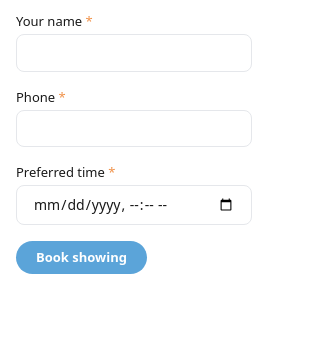
Test case: client validation › enforces the datetime business-hours window from node props
Type "Ana" into the field labelled "Your name *" at coordinates (134, 53), box [16,34,252,72]
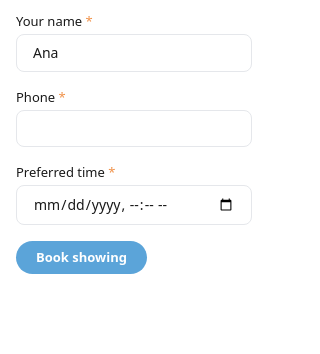
Type "+55 11 91234-5678" into the field labelled "Phone *" at coordinates (134, 128), box [16,110,252,147]
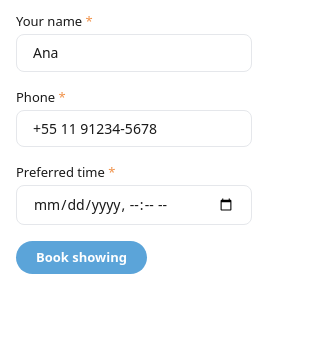
Type "2030-01-01T20:00" into the field labelled "Preferred time *" at coordinates (134, 205), box [16,185,252,225]
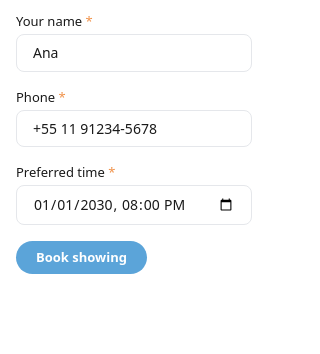
Click the button with class "kw-submit" at coordinates (81, 257), box [16,241,147,274]
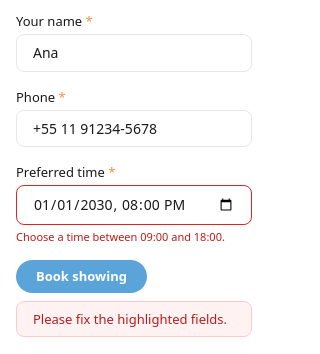
Expected: the message with class "kw-field-error" reads "Choose a time between 09:00 and 18:00.", [16,229,225,244]
